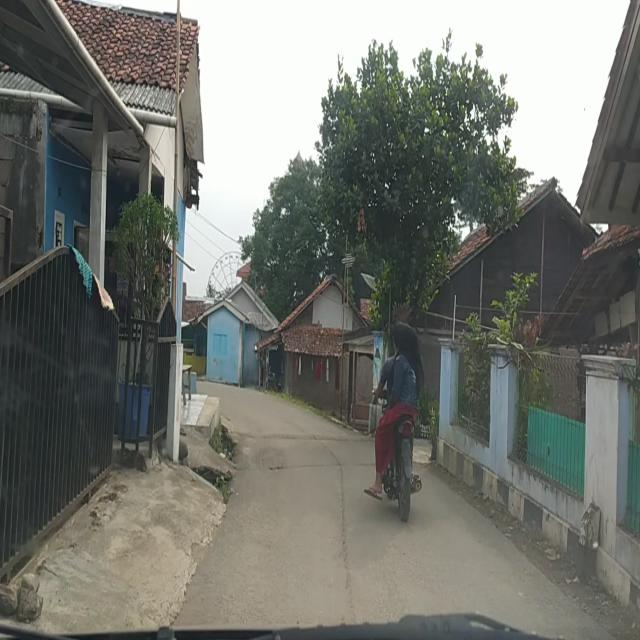Sewer Cover: (248, 460, 380, 470)
